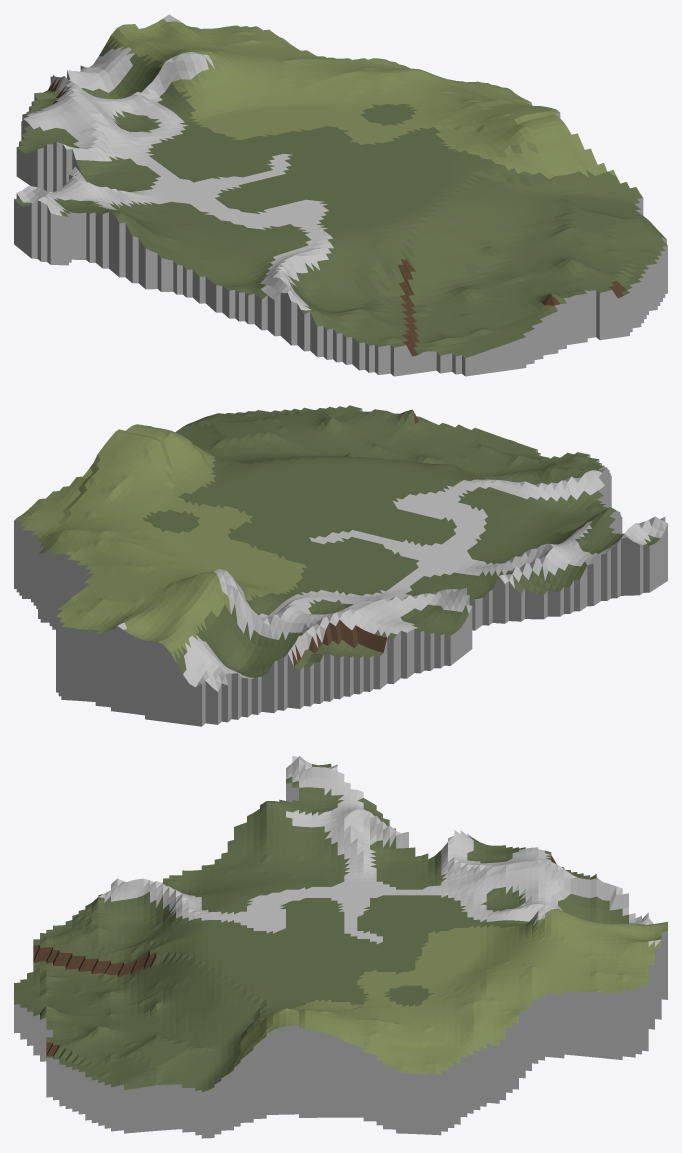
Rendered from stage0_medieval_village_terrain.glb.
3 renders of one model, top to bottom at view 1: azimuth 30°, elevation 25°; view 2: azimuth 150°, elevation 25°; view 3: azimuth 270°, elevation 25°, orthographic. The views are drawn at different scales.
Visible parts, largest first — view 1: farmland; view 2: farmland; view 3: farmland.
Boxes of the visible parts, <box> form: farmland: <box>14,14,667,376</box>; farmland: <box>14,405,667,726</box>; farmland: <box>14,756,667,1138</box>.
Size of the model in its own units: 46 by 11.81 by 50.5.
